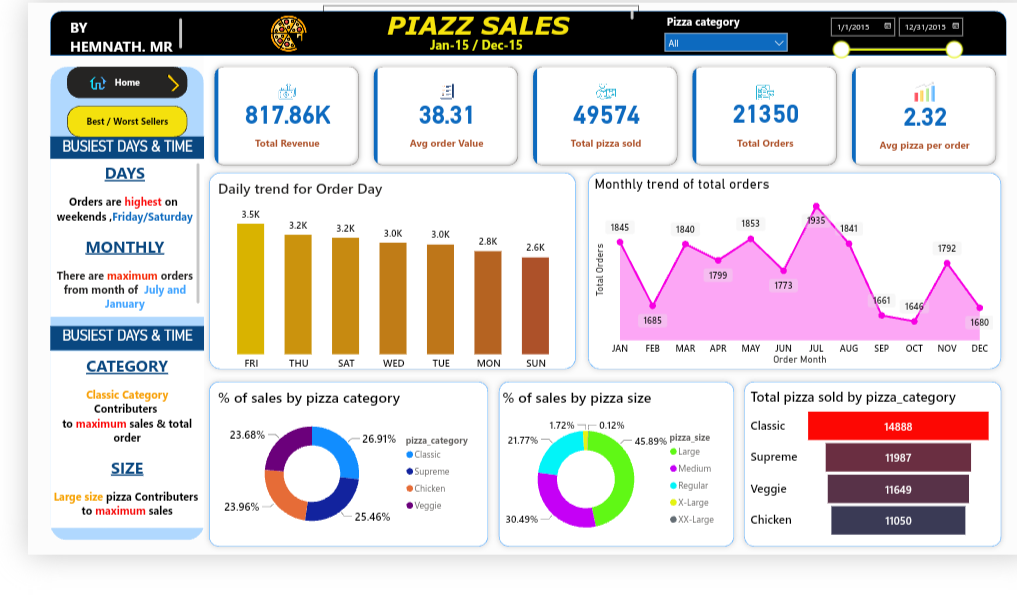

This screenshot's page, from the dashboard's own definition file:
{"tool":"powerbi","page":{"name":"Home","canvas":[1500,820],"ordinal":0},"visuals":[{"type":"shape","box":[32.8,96.8,229.6,706.8],"z":0},{"type":"cardVisual","fields":{"Data":["pizza_sales.Total Revenue","pizza_sales.Avg order Value","pizza_sales.Total pizza sold","pizza_sales.Total Orders","pizza_sales.Avg pizza per order"]},"box":[262.4,80.4,1200.5,180.4],"z":1000},{"type":"shape","box":[33.3,13.3,1428.3,66.7],"z":2000},{"type":"textbox","box":[442.8,4.9,470.7,49.2],"z":3000},{"type":"textbox","box":[595.3,45.9,167.3,50.8],"z":4000},{"type":"shape","box":[262.4,247.6,564.2,310],"z":5000},{"type":"columnChart","title":"Daily trend for Order Day","fields":{"Category":["pizza_sales.Order Day"],"Y":["pizza_sales.Total Orders"]},"box":[278.8,260.8,534.6,296.8],"z":6000},{"type":"shape","box":[828.2,247.6,633,310],"z":7000},{"type":"areaChart","title":"Monthly trend of total orders","fields":{"Y":["pizza_sales.Total Orders"],"Category":["pizza_sales.Order Month"]},"box":[841.3,260.8,605.2,283.7],"z":8000},{"type":"shape","box":[262.4,557.6,433,262.4],"z":9000},{"type":"shape","box":[695.4,557.6,367.4,262.4],"z":10000},{"type":"shape","box":[1062.7,557.6,400.2,262.4],"z":11000},{"type":"donutChart","title":"% of sales by pizza category","fields":{"Category":["pizza_sales.pizza_category"],"Y":["pizza_sales.Total Revenue"]},"box":[278.8,574,400.2,229.6],"z":12000},{"type":"donutChart","title":"% of sales by pizza size","fields":{"Category":["pizza_sales.pizza_size"],"Y":["pizza_sales.Total Revenue"]},"box":[705.2,574,339.5,246],"z":13000},{"type":"funnel","fields":{"Category":["pizza_sales.pizza_category"],"Y":["pizza_sales.Total pizza sold"]},"box":[1075.8,574,370.6,229.6],"z":14000},{"type":"textbox","box":[32.8,200.1,229.6,34.4],"z":15000},{"type":"textbox","box":[32.8,234.5,229.6,236.2],"z":16000},{"type":"textbox","box":[32.8,483.8,229.6,36.1],"z":17000},{"type":"textbox","box":[32.8,519.9,229.6,264],"z":18000},{"type":"slicer","fields":{"Values":["pizza_sales.pizza_category"]},"box":[941.4,13.1,203.4,67.2],"z":19000},{"type":"slicer","fields":{"Values":["pizza_sales.order_date"]},"box":[1187.4,13.1,218.1,82],"z":20000},{"type":"pageNavigator","box":[57.4,96.8,180.4,47.6],"z":21000},{"type":"pageNavigator","box":[57.4,152.5,180.4,47.6],"z":22000},{"type":"image","box":[195.2,101.7,42.6,39.4],"z":23000},{"type":"image","box":[86.9,101.7,34.4,41],"z":24000},{"type":"image","box":[355.9,13.1,70.5,67.2],"z":25000},{"type":"textbox","box":[57.4,18,178.8,62.3],"z":26000}]}

Visuals, with their boxes on the page's 1500x820 design canvas (x1, y1, x2, y2). These are canvas units, not pixel positions in the 1017x595 screenshot, which may show the page scaled, cropped or inside an application window:
shape: <bbox>33, 97, 262, 804</bbox>
cardVisual - pizza_sales.Total Revenue x pizza_sales.Avg order Value: <bbox>262, 80, 1463, 261</bbox>
shape: <bbox>33, 13, 1462, 80</bbox>
textbox: <bbox>443, 5, 914, 54</bbox>
textbox: <bbox>595, 46, 763, 97</bbox>
shape: <bbox>262, 248, 827, 558</bbox>
"Daily trend for Order Day" columnChart: <bbox>279, 261, 813, 558</bbox>
shape: <bbox>828, 248, 1461, 558</bbox>
"Monthly trend of total orders" areaChart: <bbox>841, 261, 1446, 544</bbox>
shape: <bbox>262, 558, 695, 820</bbox>
shape: <bbox>695, 558, 1063, 820</bbox>
shape: <bbox>1063, 558, 1463, 820</bbox>
"% of sales by pizza category" donutChart: <bbox>279, 574, 679, 804</bbox>
"% of sales by pizza size" donutChart: <bbox>705, 574, 1045, 820</bbox>
funnel - pizza_sales.pizza_category x pizza_sales.Total pizza sold: <bbox>1076, 574, 1446, 804</bbox>
textbox: <bbox>33, 200, 262, 234</bbox>
textbox: <bbox>33, 234, 262, 471</bbox>
textbox: <bbox>33, 484, 262, 520</bbox>
textbox: <bbox>33, 520, 262, 784</bbox>
slicer - pizza_sales.pizza_category: <bbox>941, 13, 1145, 80</bbox>
slicer - pizza_sales.order_date: <bbox>1187, 13, 1406, 95</bbox>
pageNavigator: <bbox>57, 97, 238, 144</bbox>
pageNavigator: <bbox>57, 152, 238, 200</bbox>
image: <bbox>195, 102, 238, 141</bbox>
image: <bbox>87, 102, 121, 143</bbox>
image: <bbox>356, 13, 426, 80</bbox>
textbox: <bbox>57, 18, 236, 80</bbox>
